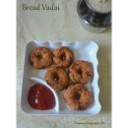vada: (66, 82, 93, 110), (70, 59, 92, 83), (47, 66, 67, 91), (29, 46, 52, 65), (53, 45, 72, 66)
